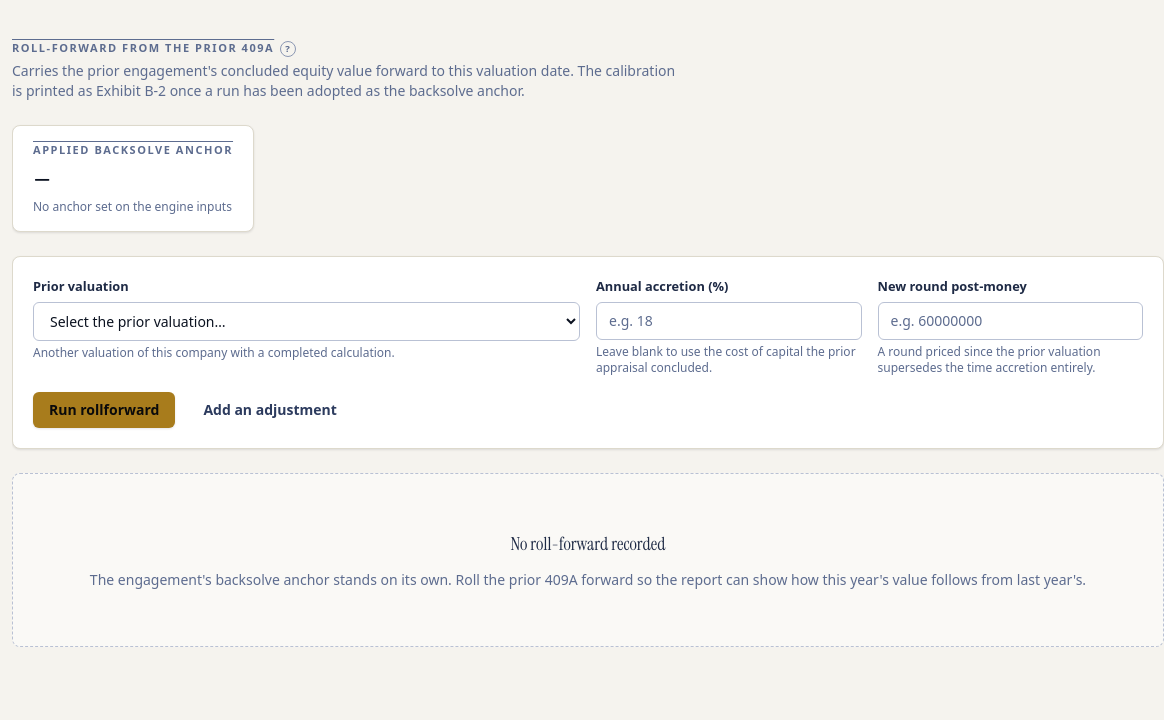
RollforwardPanel › refuses to send an accretion of -100 (a total wipeout stated as a rate)
Check: the text "No roll-forward recorded" is shown, box left=511, top=532, right=666, bottom=556
Select "V-2025-004 · Jul 1, 2025" in the dropdown labelled "Prior valuation" at coordinates (306, 321), box left=33, top=302, right=580, bottom=341
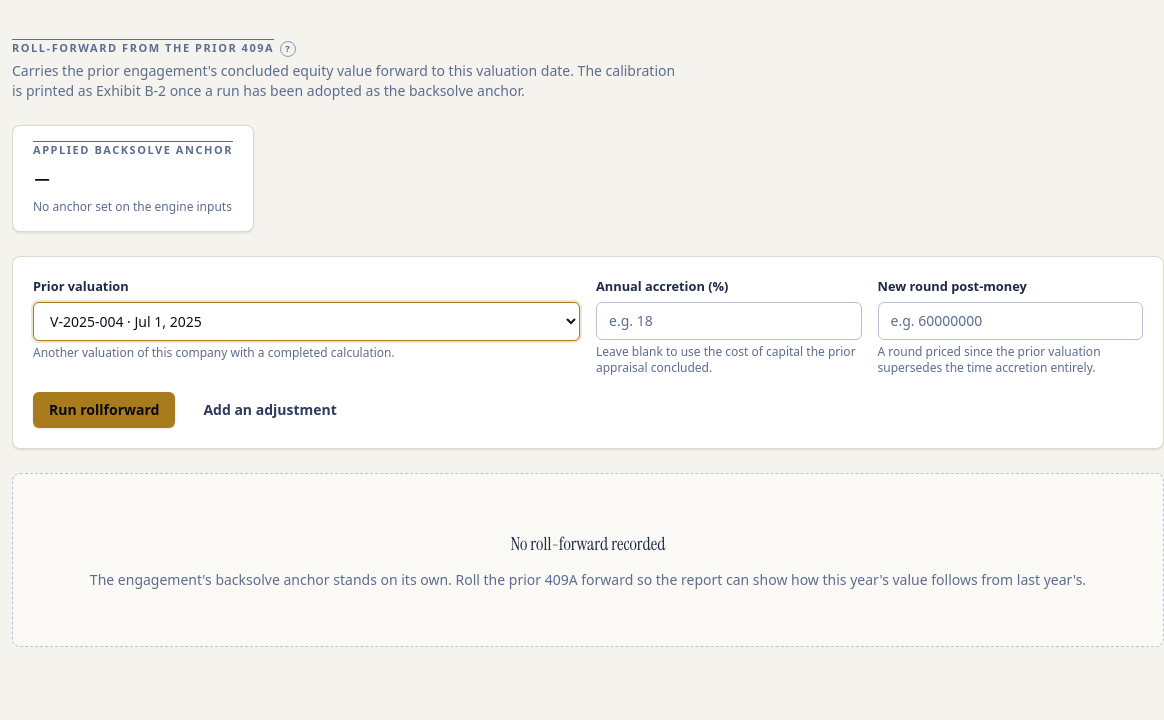
Type "-100" into the field labelled "Annual accretion" at coordinates (729, 321), box left=596, top=302, right=862, bottom=340
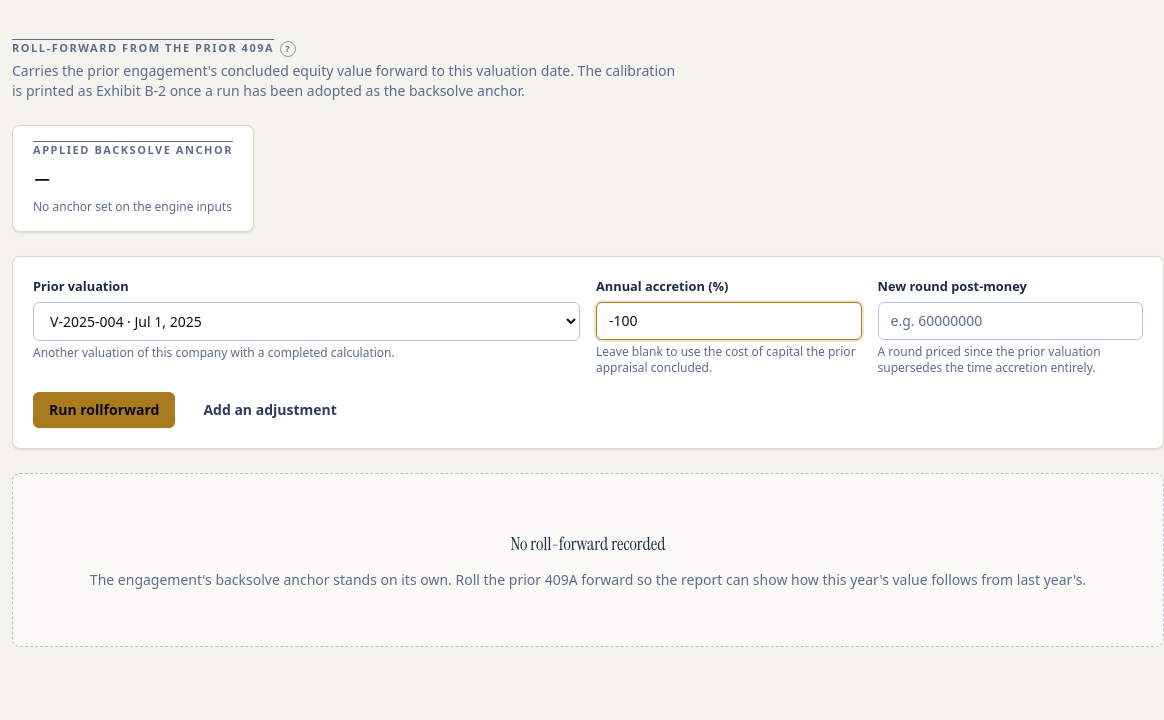
Click the button "Run rollforward" at coordinates (104, 410), box left=33, top=392, right=175, bottom=428
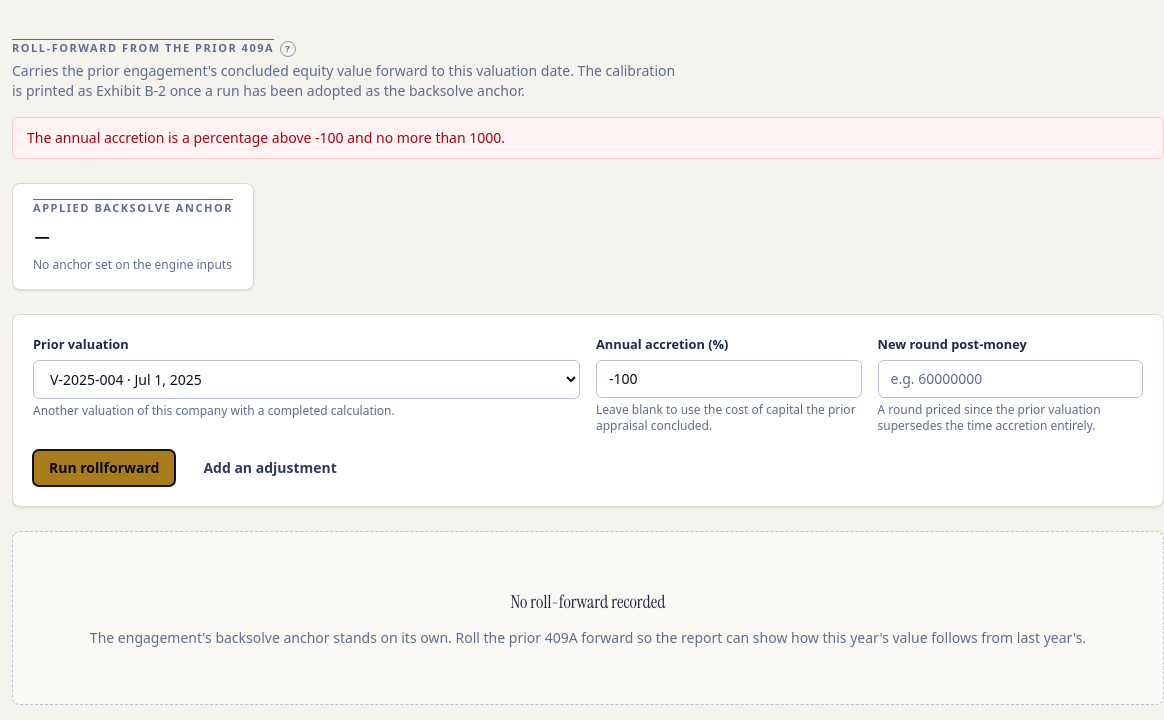
Check: the text "The annual accretion is a percentage above -100 and no more than 1000." is shown, box left=12, top=117, right=1163, bottom=159
